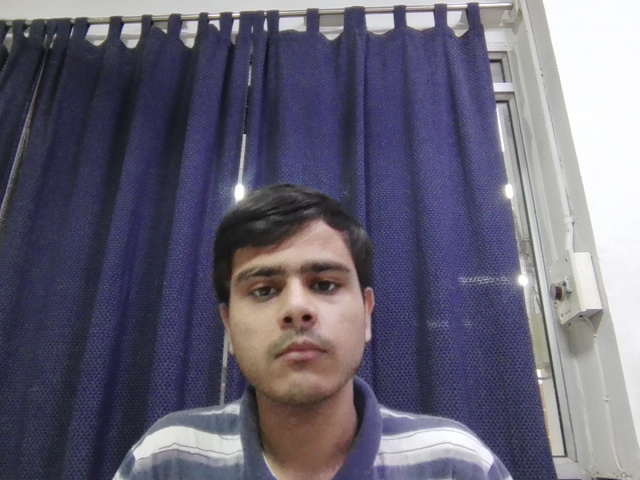face: (214, 189, 379, 404)
